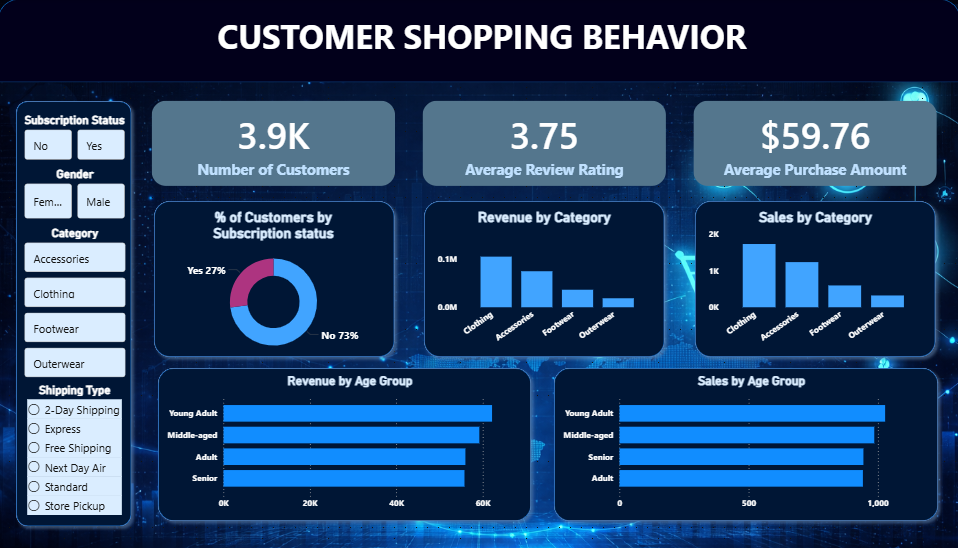

The dashboard page shown, as its layout file describes it:
{"tool":"powerbi","page":{"name":"Page 1","canvas":[1400,800],"ordinal":0},"visuals":[{"type":"cardVisual","fields":{"Data":["public customer.Number of Customers","public customer.Average Review Rating","public customer.Average Purchase Amount"]},"box":[190.2,114.8,1209.8,190.2],"z":0},{"type":"shape","box":[0,0,1400,121.3],"z":1000},{"type":"textbox","box":[192,16,1024,80],"z":2000},{"type":"shape","box":[1004.9,285.2,367.2,244.3],"z":3000},{"type":"shape","box":[18,139.3,185.2,636.1],"z":4000},{"type":"shape","box":[218,285.2,367.2,244.3],"z":5000},{"type":"shape","box":[611.5,285.2,367.2,244.3],"z":6000},{"type":"clusteredColumnChart","title":"Revenue by Category","fields":{"Y":["Sum(public customer.purchase_amount)"],"Category":["public customer.category"]},"box":[634.4,304.9,321.3,204.9],"z":7000},{"type":"clusteredColumnChart","title":"Sales by Category","fields":{"Y":["Count(public customer.customer_id)"],"Category":["public customer.category"]},"box":[1027.9,304.9,321.3,204.9],"z":8000},{"type":"donutChart","title":"% of Customers by Subscription status","fields":{"Category":["public customer.subscription_status"],"Y":["CountNonNull(public customer.customer_id)"]},"box":[259,304.9,283.6,224.6],"z":9000},{"type":"advancedSlicerVisual","title":"Subscription Status","fields":{"Values":["public customer.subscription_status"]},"box":[32.8,165.6,157.4,73.8],"z":10000},{"type":"advancedSlicerVisual","title":"Gender","fields":{"Values":["public customer.gender"]},"box":[32.8,244.3,157.4,80.3],"z":11000},{"type":"advancedSlicerVisual","title":"Category","fields":{"Values":["public customer.category"]},"box":[32.8,329.5,157.4,226.2],"z":12000},{"type":"shape","box":[224,528,560,240],"z":13000},{"type":"clusteredBarChart","title":"Revenue by Age Group","fields":{"Y":["Sum(public customer.purchase_amount)"],"Category":["public customer.age_group"]},"box":[240,544,544,208],"z":14000},{"type":"listSlicer","title":"Shipping Type","fields":{"Values":["public customer.shipping_type"]},"box":[37.7,559,147.5,200],"z":15000},{"type":"shape","box":[800,528,576,240],"z":16000},{"type":"clusteredBarChart","title":"Sales by Age Group","fields":{"Y":["CountNonNull(public customer.customer_id)"],"Category":["public customer.age_group"]},"box":[816,544,560,208],"z":17000}]}

Visuals, with their boxes in screenshot pixels (x1, y1, x2, y2), scaled from the page's 1400x800 canvas onto the 958x548 screenshot:
cardVisual - public customer.Number of Customers x public customer.Average Review Rating: rect(130, 79, 957, 209)
shape: rect(0, 0, 957, 83)
textbox: rect(131, 11, 832, 66)
shape: rect(688, 195, 939, 363)
shape: rect(12, 95, 139, 531)
shape: rect(149, 195, 400, 363)
shape: rect(418, 195, 670, 363)
"Revenue by Category" clusteredColumnChart: rect(434, 209, 654, 349)
"Sales by Category" clusteredColumnChart: rect(703, 209, 923, 349)
"% of Customers by Subscription status" donutChart: rect(177, 209, 371, 363)
"Subscription Status" advancedSlicerVisual: rect(22, 113, 130, 164)
"Gender" advancedSlicerVisual: rect(22, 167, 130, 222)
"Category" advancedSlicerVisual: rect(22, 226, 130, 381)
shape: rect(153, 362, 536, 526)
"Revenue by Age Group" clusteredBarChart: rect(164, 373, 536, 515)
"Shipping Type" listSlicer: rect(26, 383, 127, 520)
shape: rect(547, 362, 942, 526)
"Sales by Age Group" clusteredBarChart: rect(558, 373, 942, 515)
